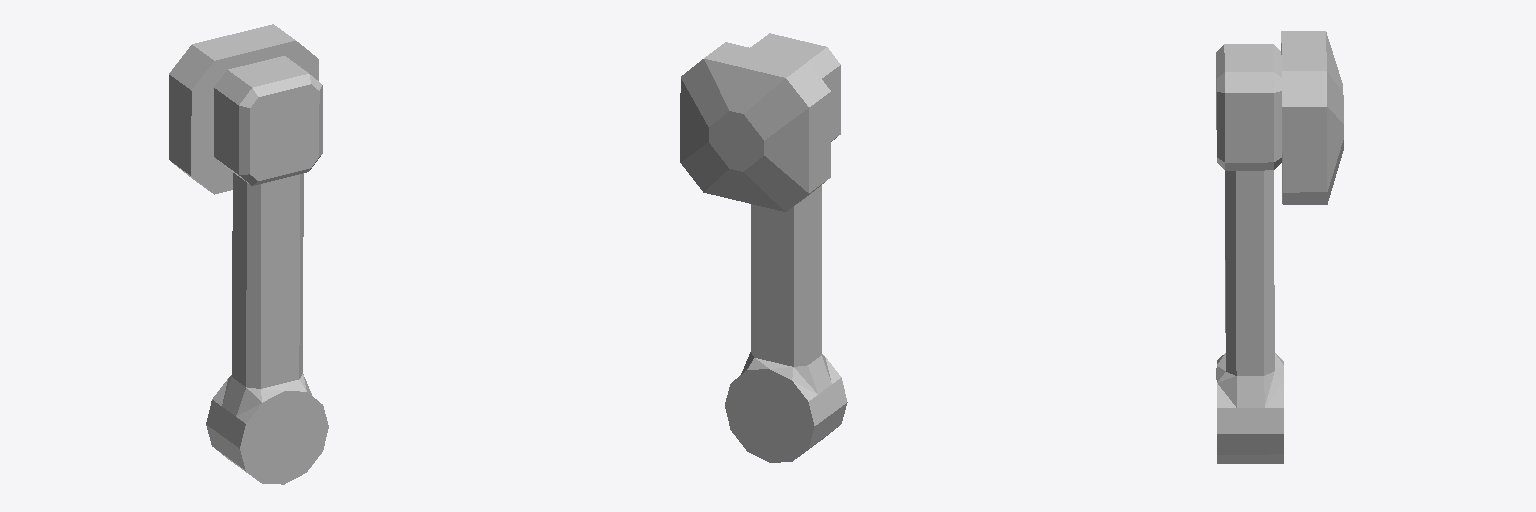
The model's file is only_humerus_v5.obj.
The picture shows the model from 3 angles: view 1: azimuth 30°, elevation 25°; view 2: azimuth 150°, elevation 25°; view 3: azimuth 270°, elevation 25°; orthographic projection.
Visible parts, largest first — view 1: only_humerus_v3:Robot2; view 2: only_humerus_v3:Robot2; view 3: only_humerus_v3:Robot2.
Part boxes in pixels (bbox=[...]): only_humerus_v3:Robot2: bbox=[169, 24, 328, 484]; only_humerus_v3:Robot2: bbox=[680, 33, 847, 462]; only_humerus_v3:Robot2: bbox=[1216, 31, 1343, 463].
Bounding box in the file's own units: 44.61 × 136 × 38.39.